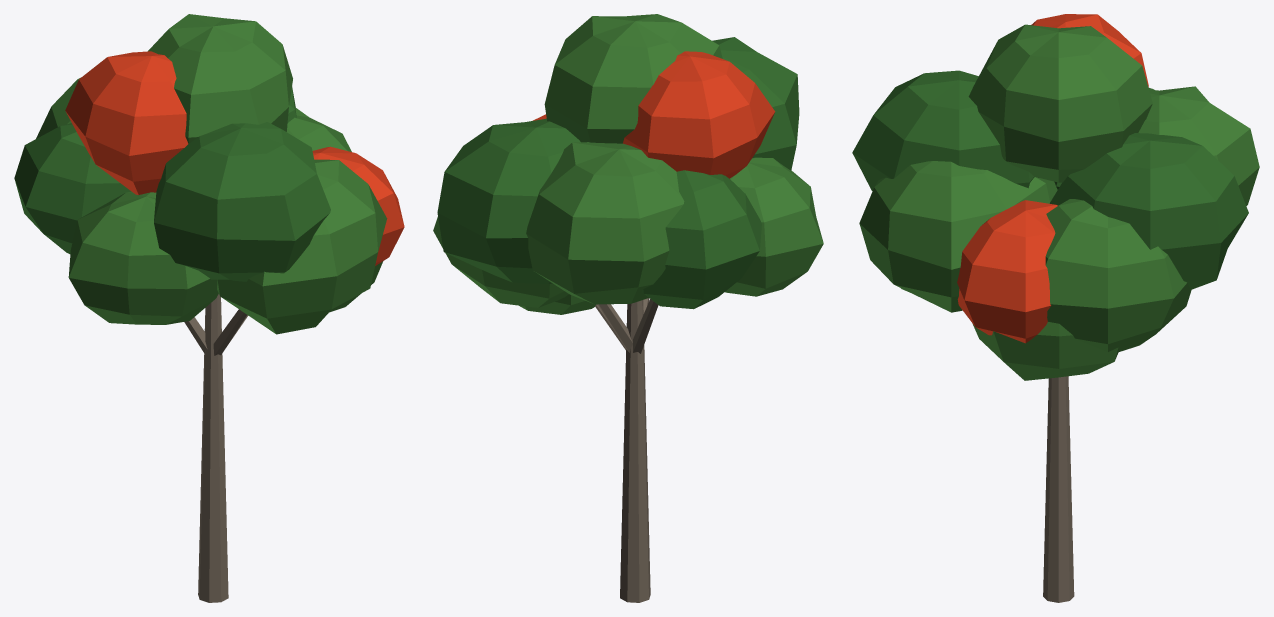
Rendered from tree_tulip_tree_small.glb.
The picture shows the model from 3 angles, left to right: view 1: azimuth 30°, elevation 25°; view 2: azimuth 150°, elevation 25°; view 3: azimuth 270°, elevation 25°; orthographic projection.
Visible parts, largest first — view 1: tree_tulip_tree_small; view 2: tree_tulip_tree_small; view 3: tree_tulip_tree_small.
Part boxes in pixels (<box>): tree_tulip_tree_small: <box>14,14,404,602</box>; tree_tulip_tree_small: <box>433,14,823,602</box>; tree_tulip_tree_small: <box>852,14,1259,602</box>.
Bounding box in the file's own units: 2.69 × 4.4 × 2.88.
